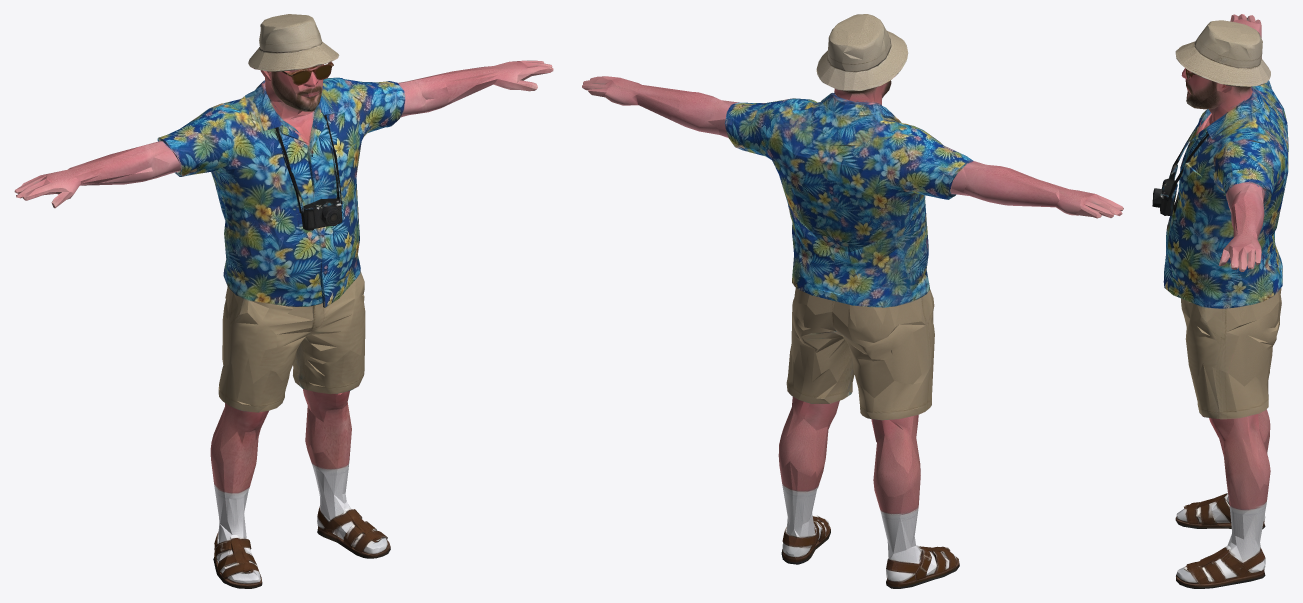
Rendered from image3d.glb.
3 renders of one model, left to right at view 1: azimuth 30°, elevation 25°; view 2: azimuth 150°, elevation 25°; view 3: azimuth 270°, elevation 25°, orthographic. The views are drawn at different scales.
Bounding box in the file's own units: 1.9 × 1.83 × 0.4278.
Materials: 1 (1 with a texture image).
